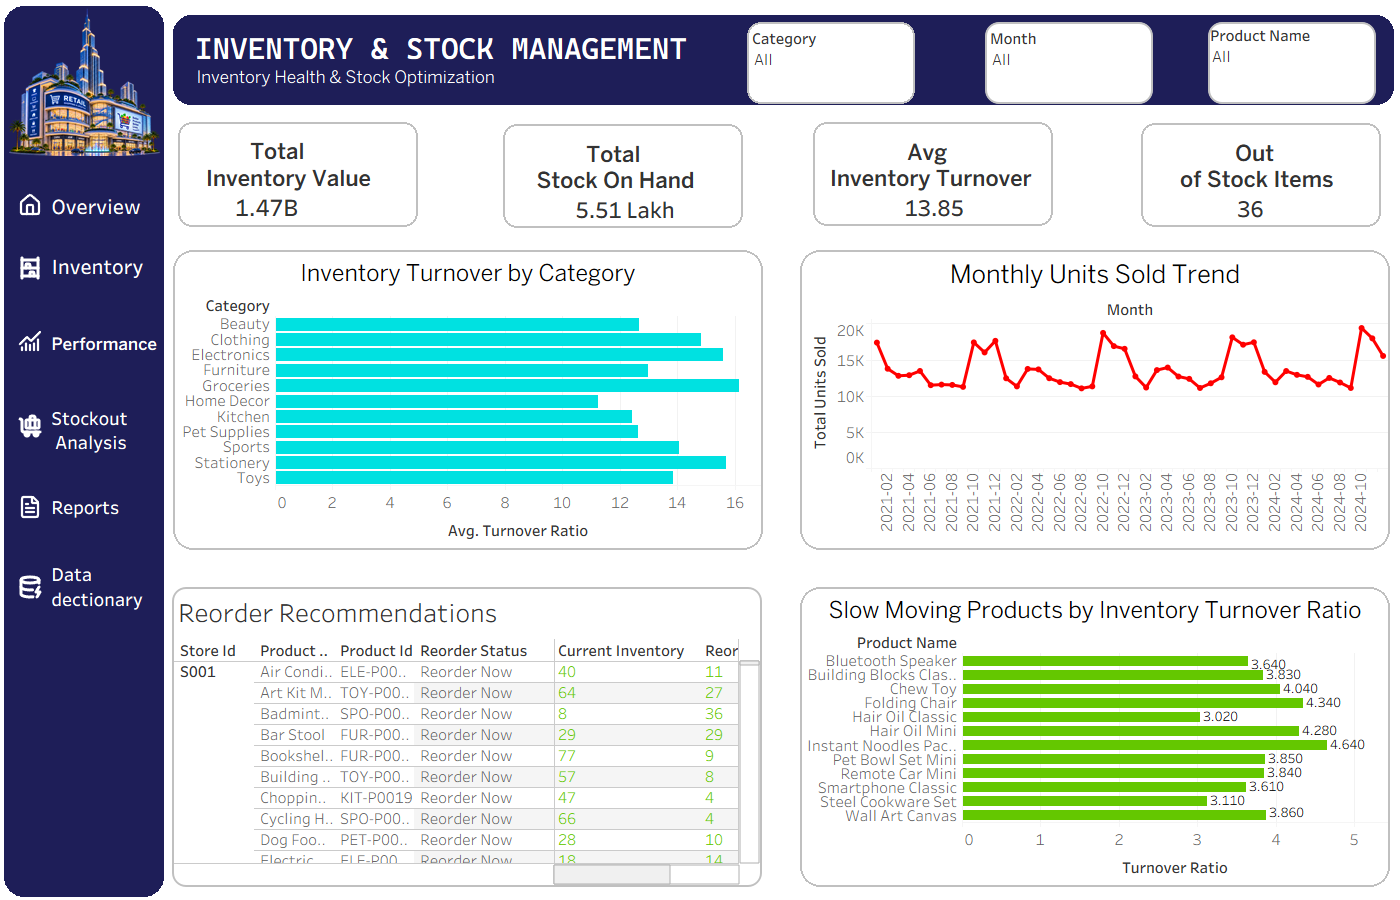

The page's visual inventory and layout, read from the dashboard file:
{"tool":"tableau","page":{"name":"Inventory","canvas":[1400,900],"ordinal":0},"visuals":[{"type":"image","param":"C:/Users/sumer_idz14/Documents/Projects ----/EV Charging Station Demand Analysis","box":[16,16,1368,868]},{"type":"text","box":[169,19,1221,89]},{"type":"filter","title":"Inventory Value Trend","param":"[federated.062l1l41enw07t108fr910so1ngt].[none:category:nk]","box":[747,22,168,82]},{"type":"filter","title":"Monthly Units Sold Trend2","param":"[federated.02hf0fc08j33zg1e41bme0dwy80j].[none:month:nk]","box":[974,22,168,82]},{"type":"filter","title":"Stockout Risk by City","param":"[federated.0ufaq6i0nyh3ez1esy3gd18hnwsr].[attr:city:nk]","box":[1185,22,168,82]},{"type":"worksheet","title":"Total Inventory Value","mark":"Automatic","box":[178,122,230,104]},{"type":"worksheet","title":"Total Stock On Hand","mark":"Automatic","box":[501,122,230,104]},{"type":"worksheet","title":"Avg Inventory Turnover","mark":"Automatic","box":[831,122,230,104]},{"type":"worksheet","title":"Out of Stock Items","mark":"Automatic","box":[1147,123,230,104]},{"type":"text","box":[61,176,113,60]},{"type":"image","param":"C:/Users/sumer_idz14/Documents/Projects ----/EV Charging Station Demand Analysis","box":[28,193,24,24]},{"type":"text","box":[63,240,99,64]},{"type":"worksheet","title":"Inventory Value Trend","mark":"Automatic","rows":["category"],"cols":["turnover_ratio"],"box":[178,245,571,284]},{"type":"worksheet","title":"Monthly Units Sold Trend2","mark":"Line","rows":["total_units_sold"],"cols":["month"],"box":[816,251,571,284]},{"type":"image","param":"C:/Users/sumer_idz14/Downloads/shelving-unit.png","box":[25,256,24,24]},{"type":"text","box":[52,322,117,52]},{"type":"image","param":"C:/Users/sumer_idz14/Documents/Projects ----/EV Charging Station Demand Analysis","box":[25,329,24,24]},{"type":"text","box":[63,398,110,64]},{"type":"image","param":"C:/Users/sumer_idz14/Downloads/baggage-claim.png","box":[25,414,24,24]},{"type":"text","box":[63,481,108,58]},{"type":"image","param":"C:/Users/sumer_idz14/Documents/Projects ----/EV Charging Station Demand Analysis","box":[25,495,24,24]},{"type":"text","box":[63,545,108,83]},{"type":"worksheet","title":"Stockout Risk by City","mark":"Automatic","box":[178,546,571,284]},{"type":"worksheet","title":"Revenue by Category 2 ","mark":"Automatic","rows":["total_revenue"],"cols":["category"],"box":[816,551,571,284]},{"type":"image","param":"C:/Users/sumer_idz14/Downloads/database-zap.png","box":[28,575,24,24]}]}

Visuals, with their boxes on the page's 1400x900 design canvas (x1, y1, x2, y2). These are canvas units, not pixel positions in the 1400x900 screenshot, which may show the page scaled, cropped or inside an application window:
image: bbox=(16, 16, 1384, 884)
text: bbox=(169, 19, 1390, 108)
"Inventory Value Trend" filter: bbox=(747, 22, 915, 104)
"Monthly Units Sold Trend2" filter: bbox=(974, 22, 1142, 104)
"Stockout Risk by City" filter: bbox=(1185, 22, 1353, 104)
"Total Inventory Value" worksheet: bbox=(178, 122, 408, 226)
"Total Stock On Hand" worksheet: bbox=(501, 122, 731, 226)
"Avg Inventory Turnover" worksheet: bbox=(831, 122, 1061, 226)
"Out of Stock Items" worksheet: bbox=(1147, 123, 1377, 227)
text: bbox=(61, 176, 174, 236)
image: bbox=(28, 193, 52, 217)
text: bbox=(63, 240, 162, 304)
"Inventory Value Trend" worksheet: bbox=(178, 245, 749, 529)
"Monthly Units Sold Trend2" worksheet (Line marks): bbox=(816, 251, 1387, 535)
image: bbox=(25, 256, 49, 280)
text: bbox=(52, 322, 169, 374)
image: bbox=(25, 329, 49, 353)
text: bbox=(63, 398, 173, 462)
image: bbox=(25, 414, 49, 438)
text: bbox=(63, 481, 171, 539)
image: bbox=(25, 495, 49, 519)
text: bbox=(63, 545, 171, 628)
"Stockout Risk by City" worksheet: bbox=(178, 546, 749, 830)
"Revenue by Category 2 " worksheet: bbox=(816, 551, 1387, 835)
image: bbox=(28, 575, 52, 599)
